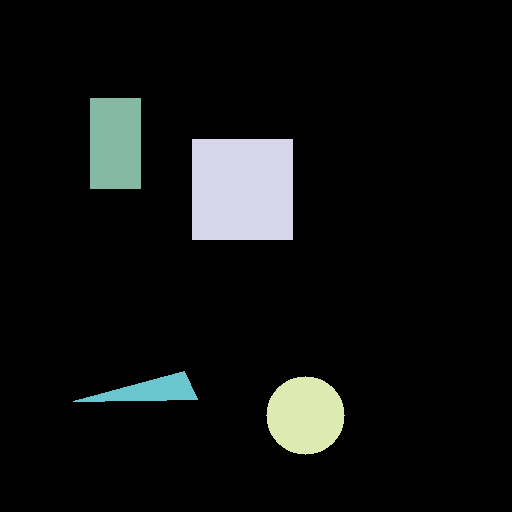circle: (266, 376, 344, 454)
rectangle: (90, 98, 140, 188)
square: (192, 139, 292, 239)
triangle: (73, 371, 197, 401)
